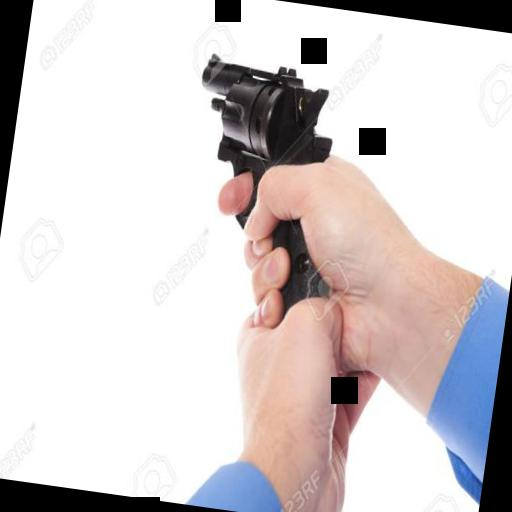Handgun: (160, 33, 368, 356)
